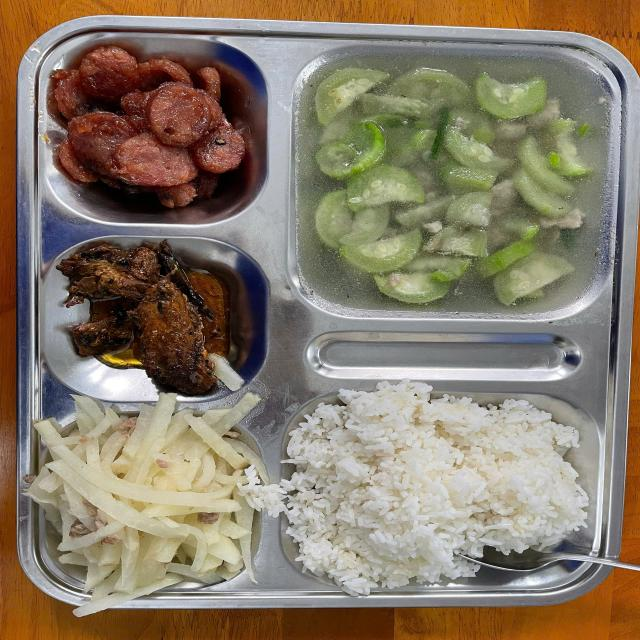canhbau: (297, 50, 605, 309)
lapxuong: (48, 43, 252, 208)
salad: (285, 388, 589, 579)
suon: (28, 408, 260, 597)
teprim: (55, 244, 253, 390)
